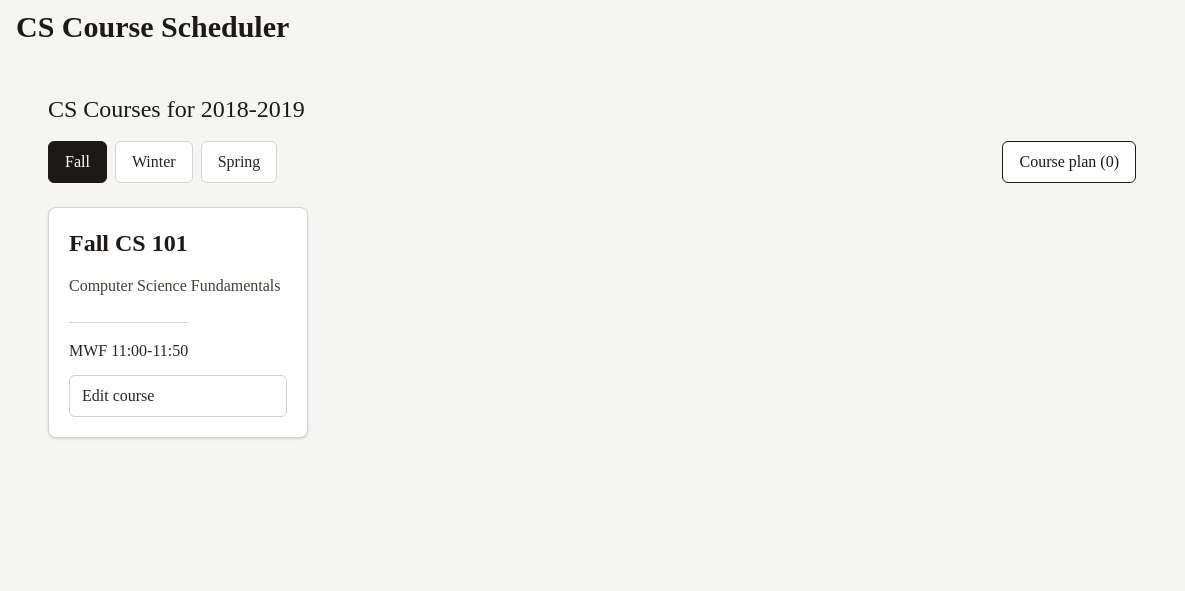
it: App › opens a populated course edit form and returns to the list on cancel
Click the link with aria-label "Edit Fall CS 101": x=178, y=396 [69,375,287,417]
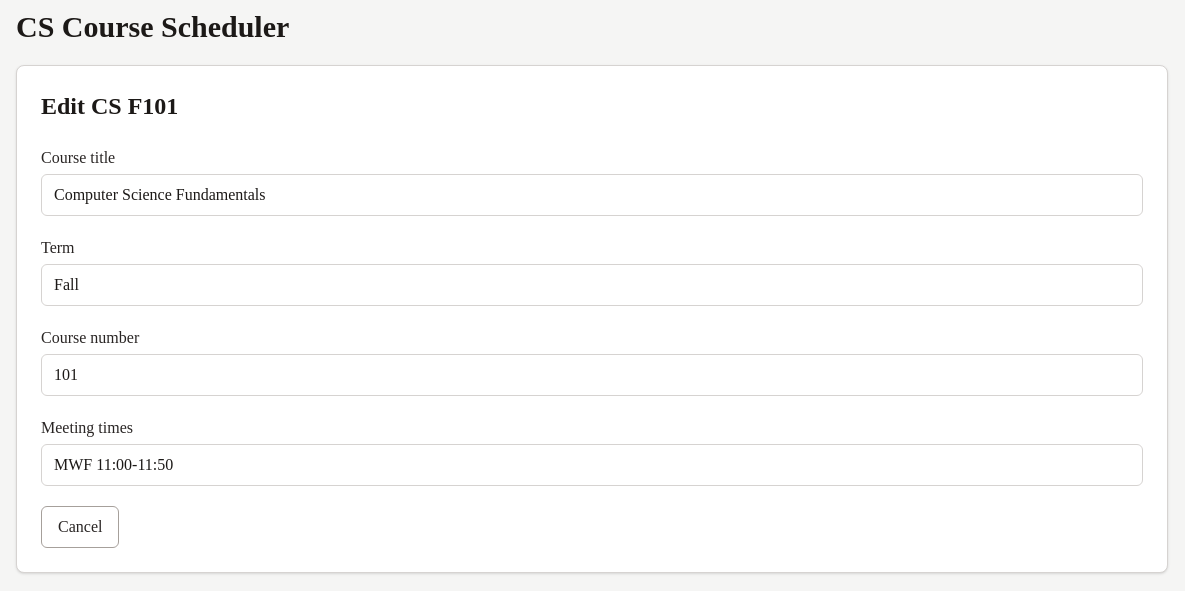
Result: the heading "Edit CS F101" is shown at [41,93,178,119]
Result: the field labelled "Course title" holds "Computer Science Fundamentals" at [41,174,1143,216]
Result: the field labelled "Meeting times" holds "MWF 11:00-11:50" at [41,444,1143,486]
Click the button "Cancel": x=80, y=527 [41,506,119,548]
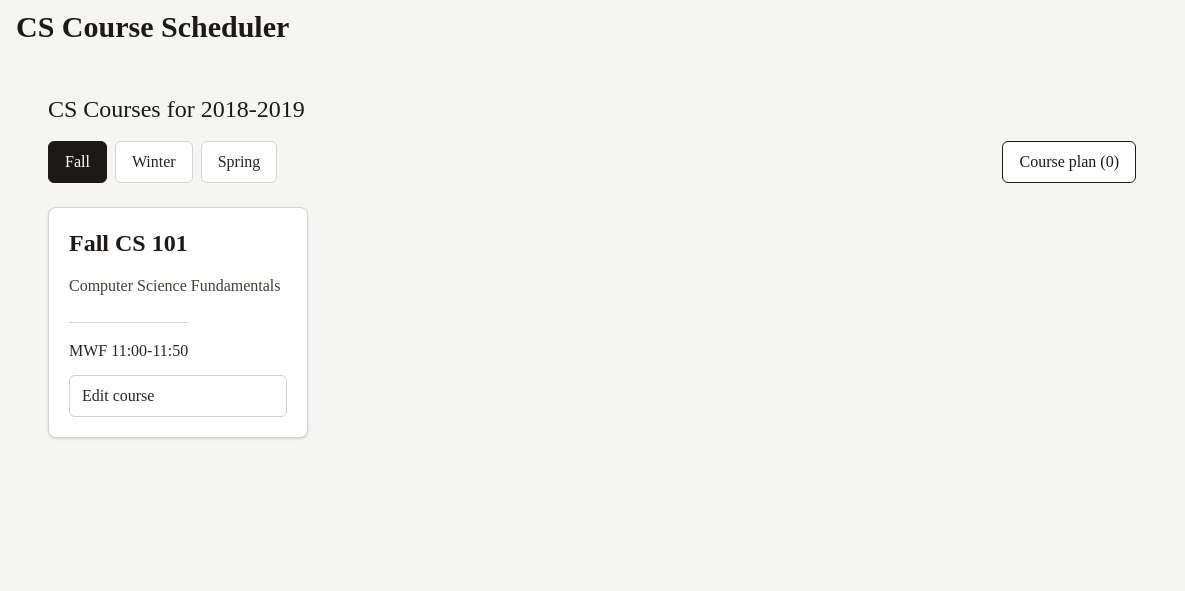
Result: the heading "CS Courses for 2018-2019" is shown at [48,96,305,122]
Result: the link with aria-label "Edit Fall CS 101" is shown at [69,375,287,417]
